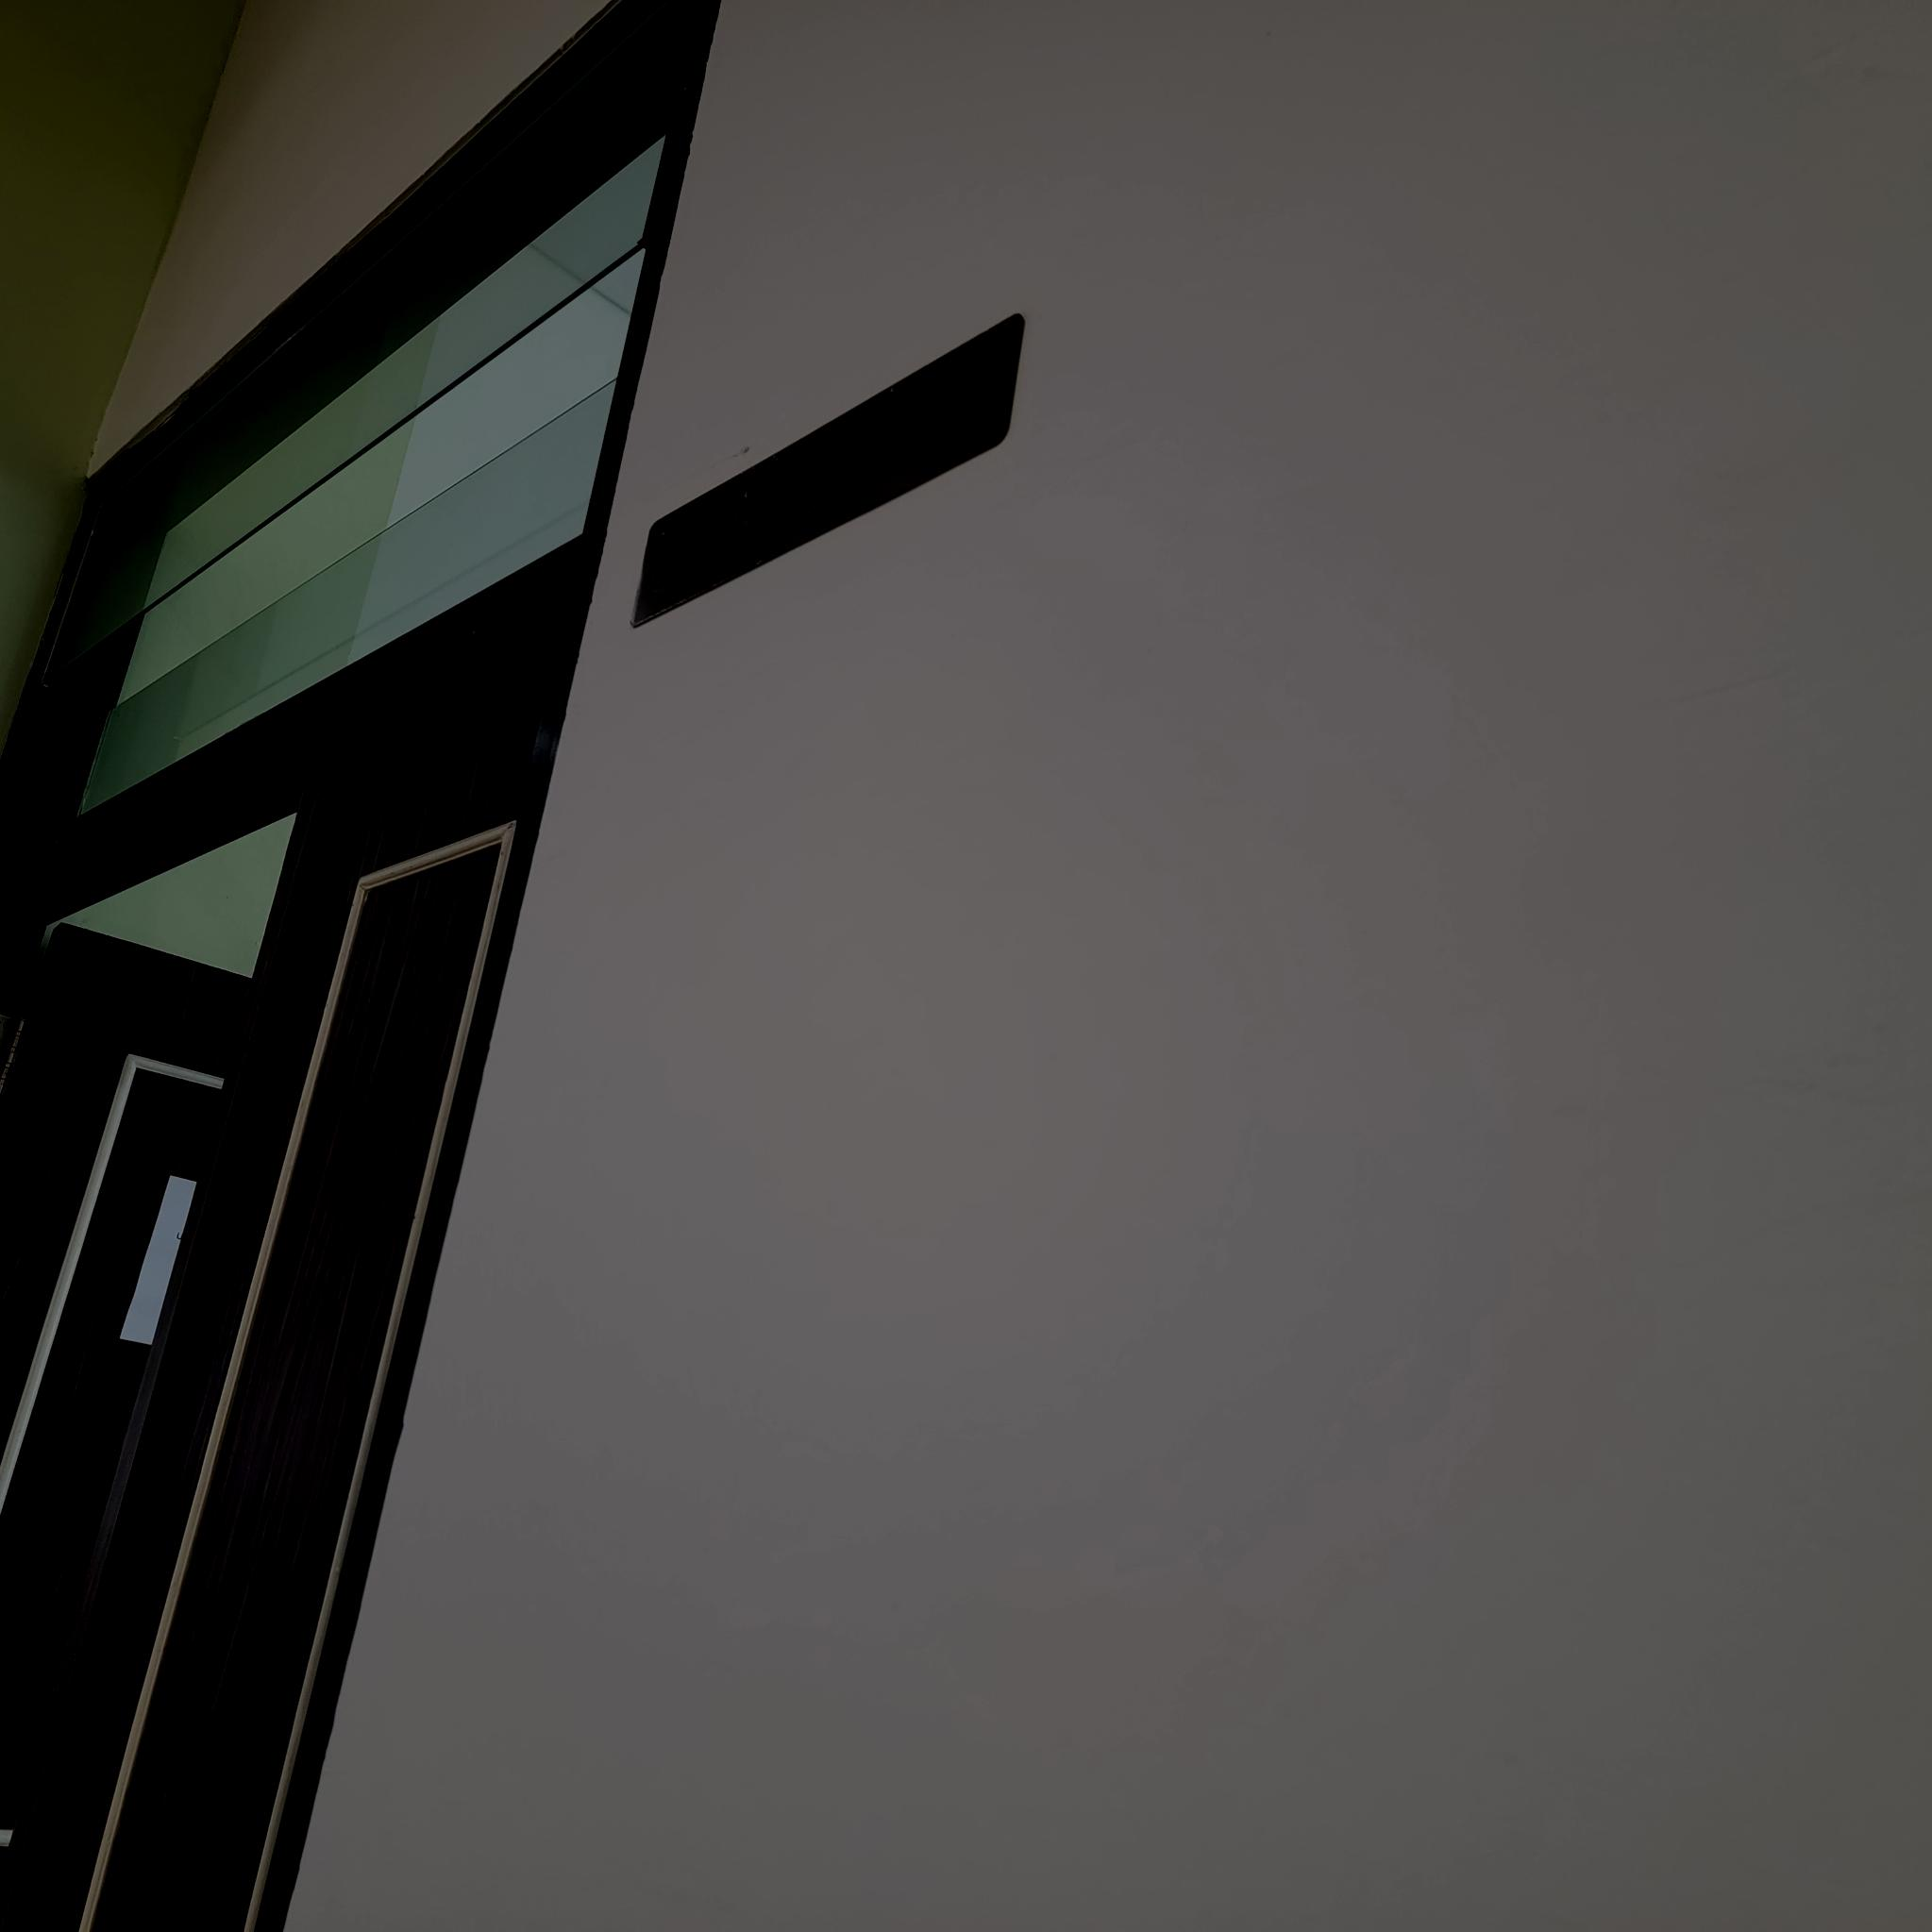plate: (632, 310, 1024, 626)
